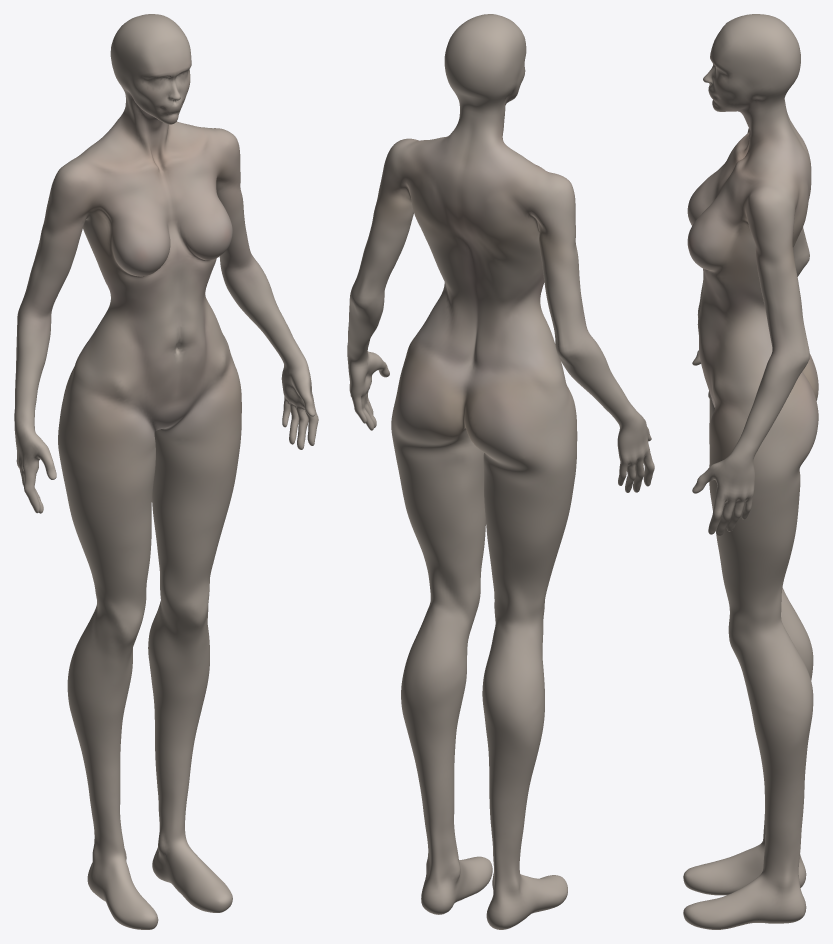
Rendered from skin.glb.
The picture shows the model from 3 angles, left to right: view 1: azimuth 30°, elevation 25°; view 2: azimuth 150°, elevation 25°; view 3: azimuth 270°, elevation 25°; orthographic projection.
Parts seen in each view (by area): view 1: Merged_Extract9.002; view 2: Merged_Extract9.002; view 3: Merged_Extract9.002.
Part boxes in pixels (left/top/right/bottom): Merged_Extract9.002: left=14, top=14, right=318, bottom=929; Merged_Extract9.002: left=347, top=14, right=654, bottom=929; Merged_Extract9.002: left=683, top=14, right=818, bottom=929.
Size of the model in its own units: 0.171 by 0.491 by 0.0676.
